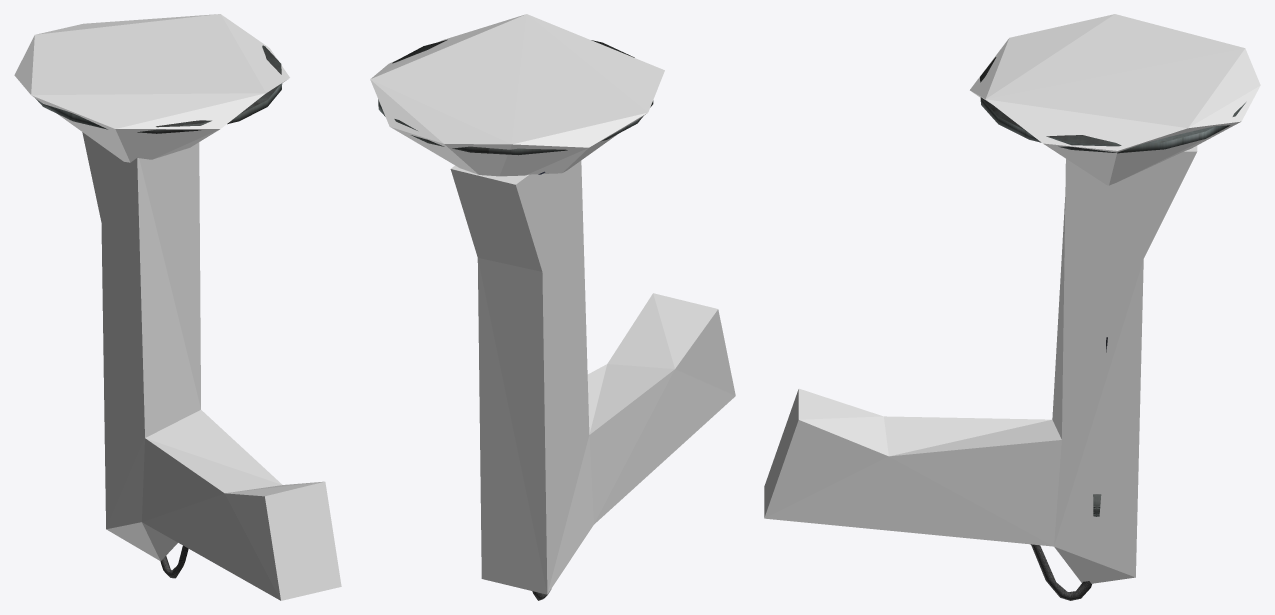
File: LandingGearSingle.fbx
The picture shows the model from 3 angles, left to right: view 1: azimuth 30°, elevation 25°; view 2: azimuth 150°, elevation 25°; view 3: azimuth 270°, elevation 25°; orthographic projection. The views are drawn at different scales.
Parts seen in each view (by area): view 1: LandingGearColMesh, LandingGearSingle_LOD0; view 2: LandingGearColMesh, LandingGearSingle_LOD0; view 3: LandingGearColMesh, LandingGearSingle_LOD0.
Part boxes in pixels (<box>): LandingGearColMesh: <box>14,14,341,600</box>; LandingGearSingle_LOD0: <box>35,45,282,578</box>; LandingGearColMesh: <box>370,14,735,594</box>; LandingGearSingle_LOD0: <box>378,39,653,600</box>; LandingGearColMesh: <box>764,14,1260,583</box>; LandingGearSingle_LOD0: <box>980,57,1245,600</box>.
Size of what is drawn, in the model's own units: 445 by 887 by 752.
